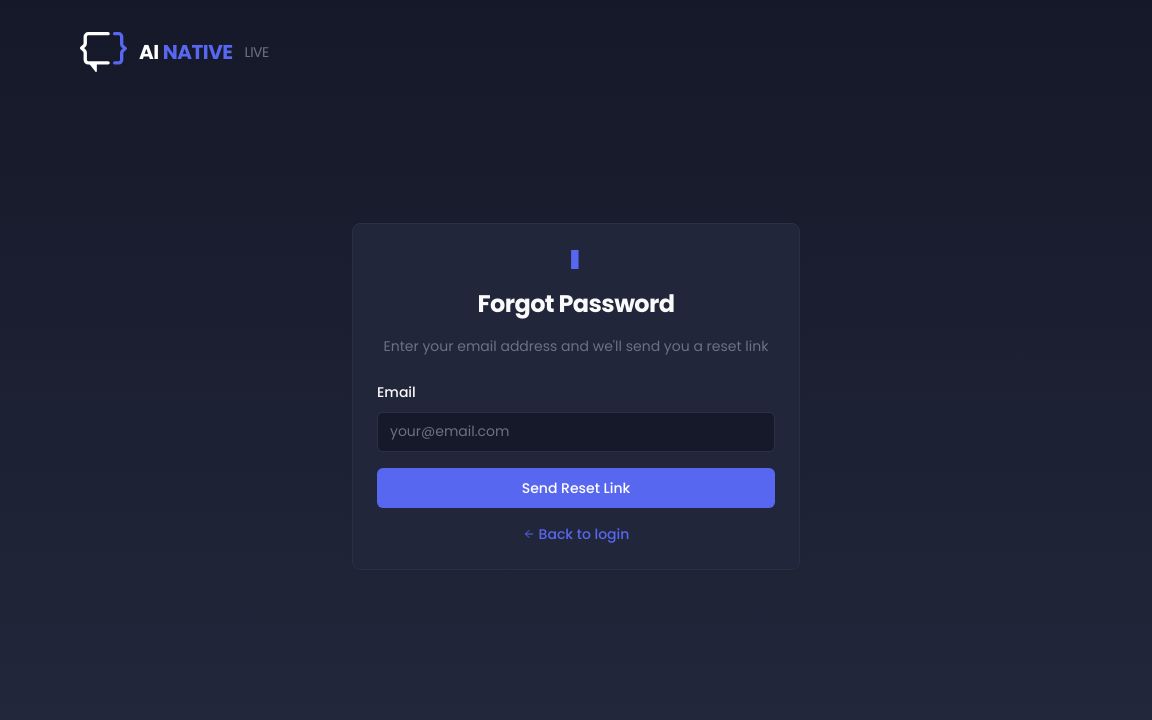
ForgotPasswordPage › API Integration › should display error when email not found
This screenshot has width=1152, height=720.
Type "notfound@example.com" into the field labelled "Email".
click(576, 432); type("notfound@example.com")  # box [377, 412, 775, 452]
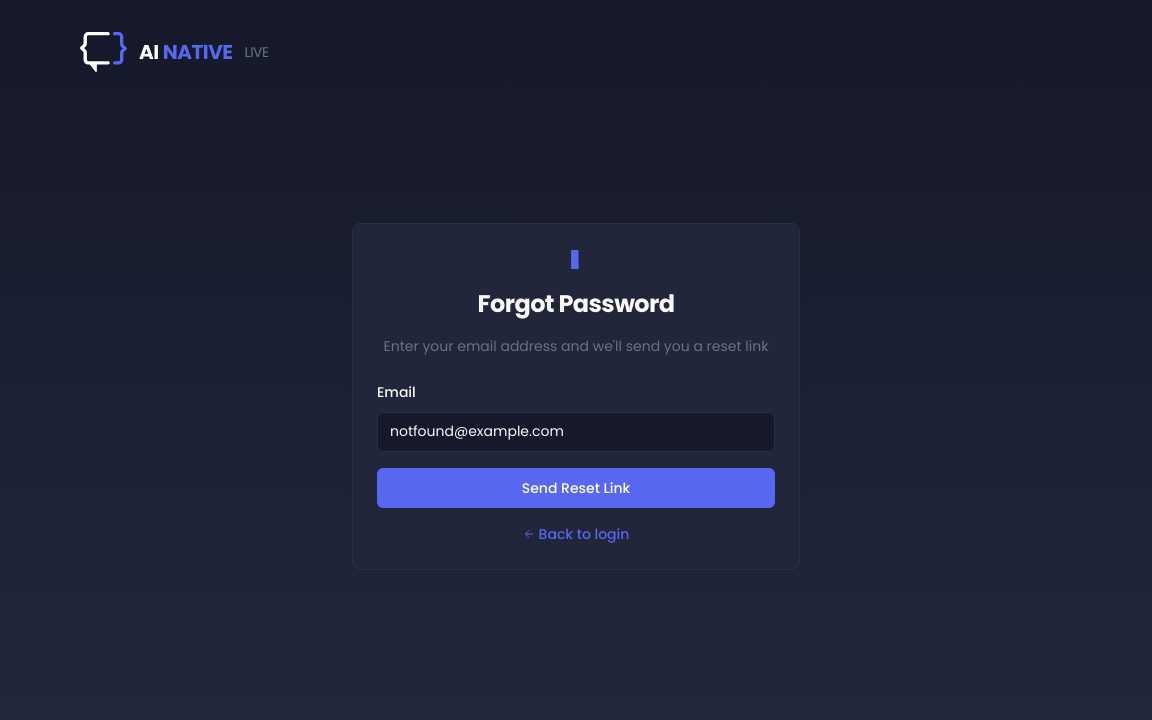
Click the button "Send Reset Link".
click(576, 488)  # box [377, 468, 775, 508]
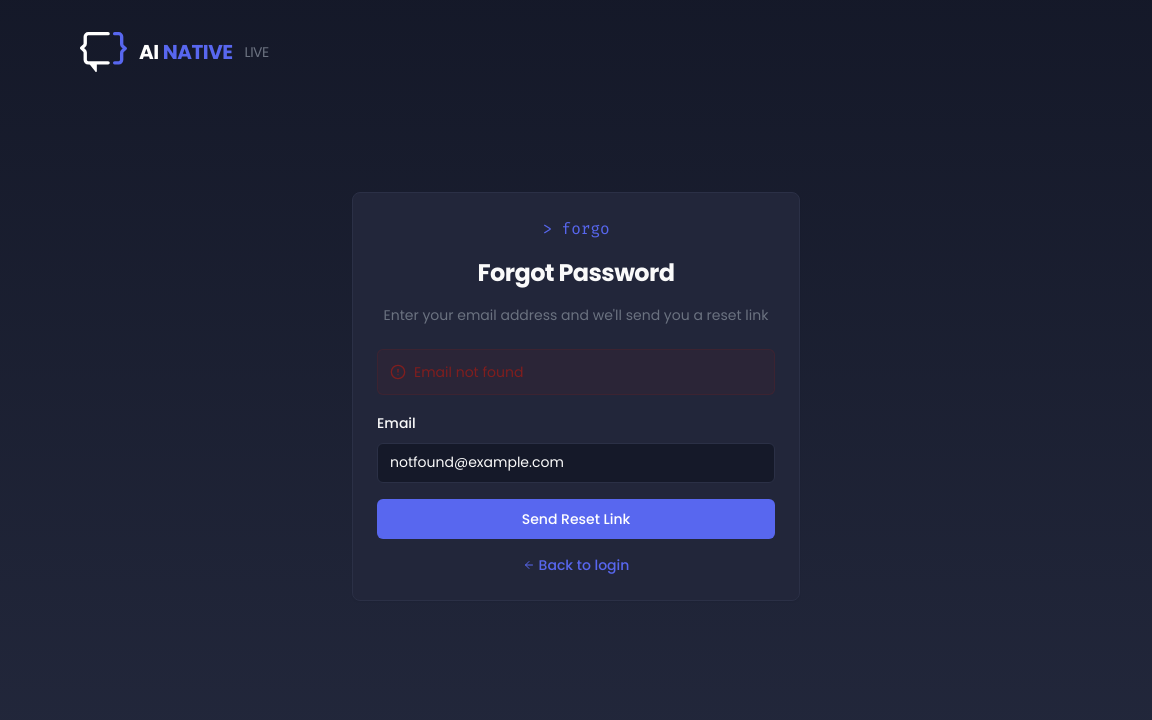
Now the text "Email not found" is shown, box [414, 362, 523, 382]
